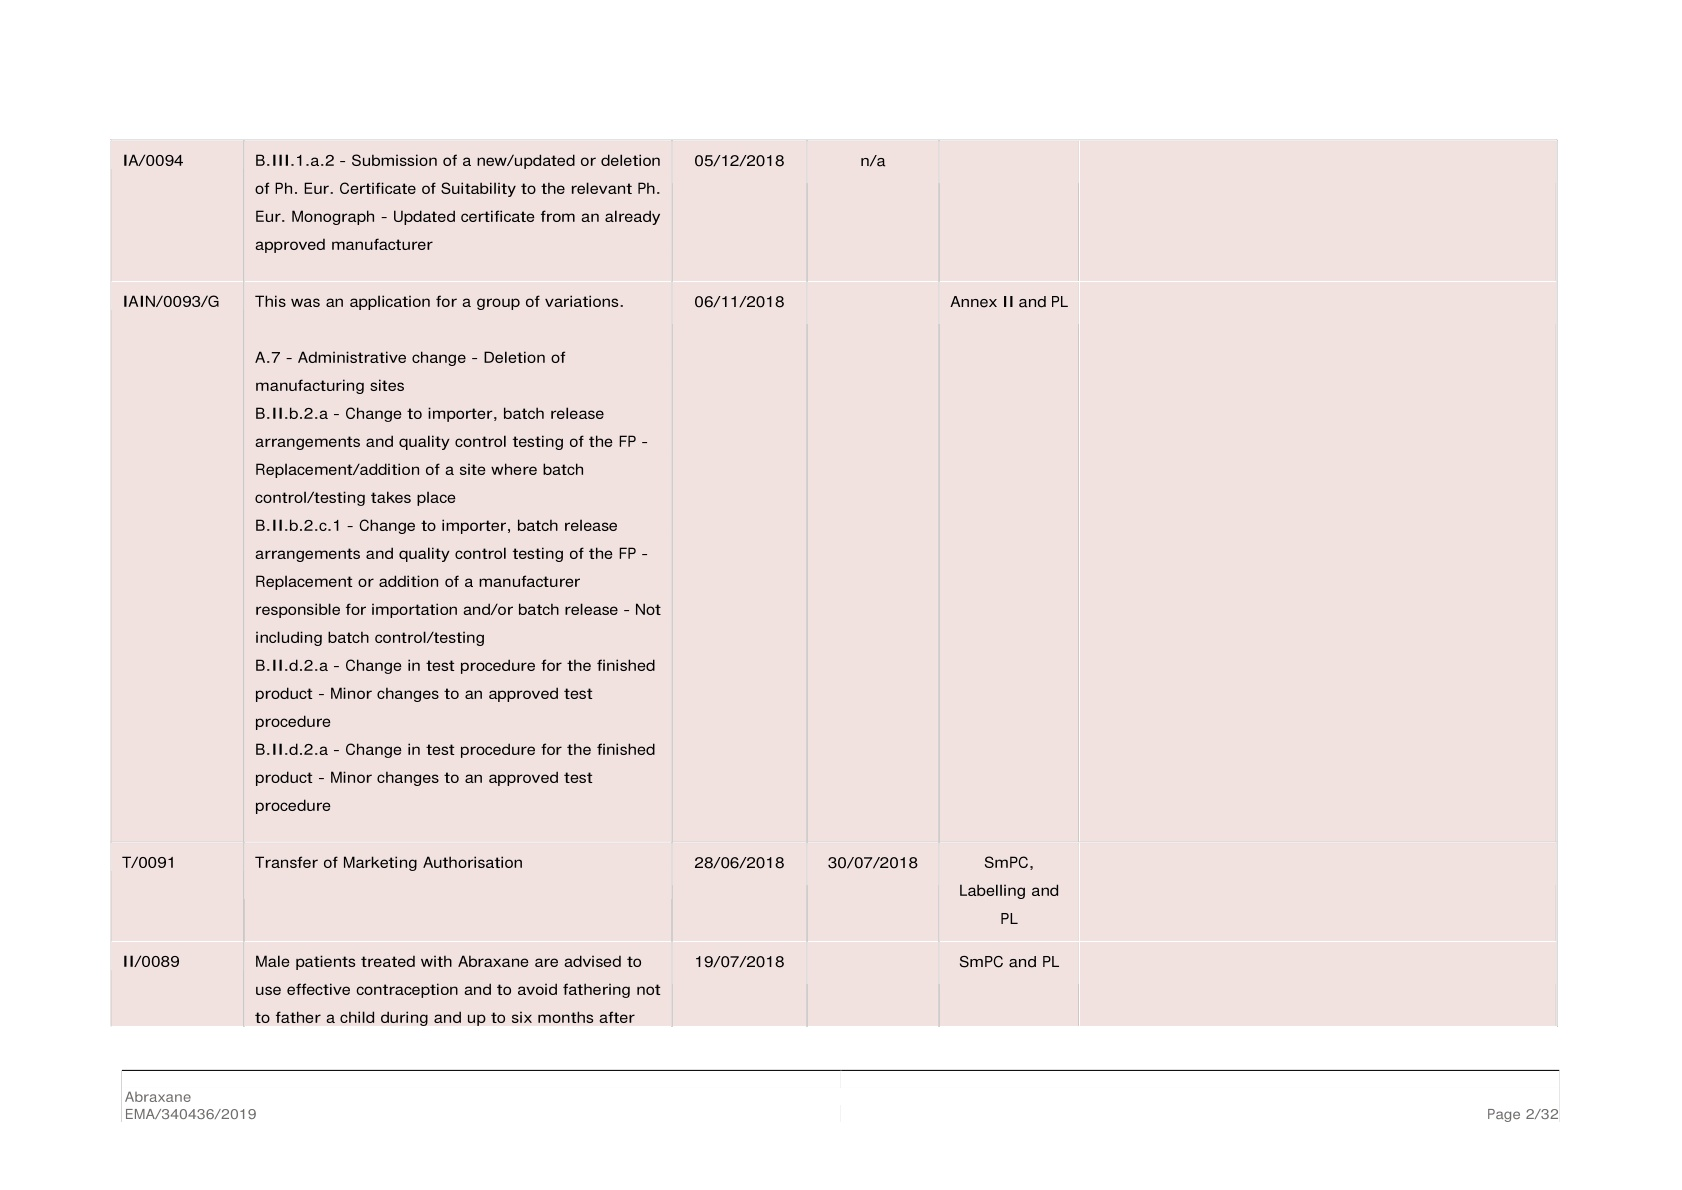full_lined: (102, 134, 1574, 1035)
